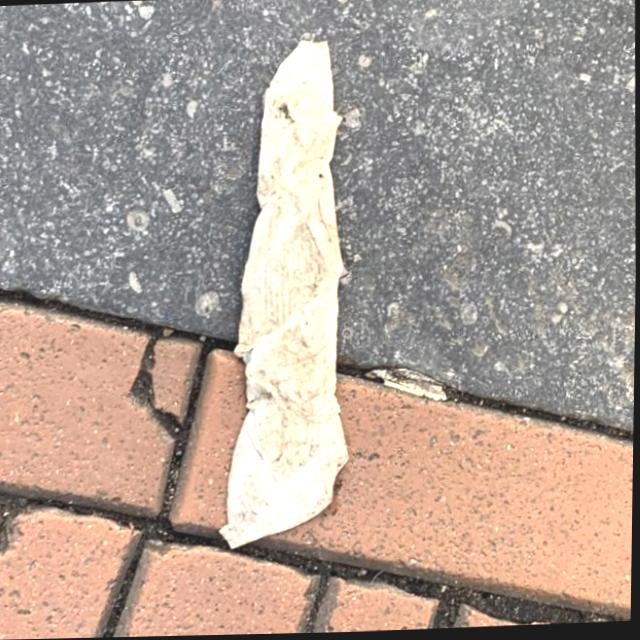Paper: (209, 36, 359, 554)
